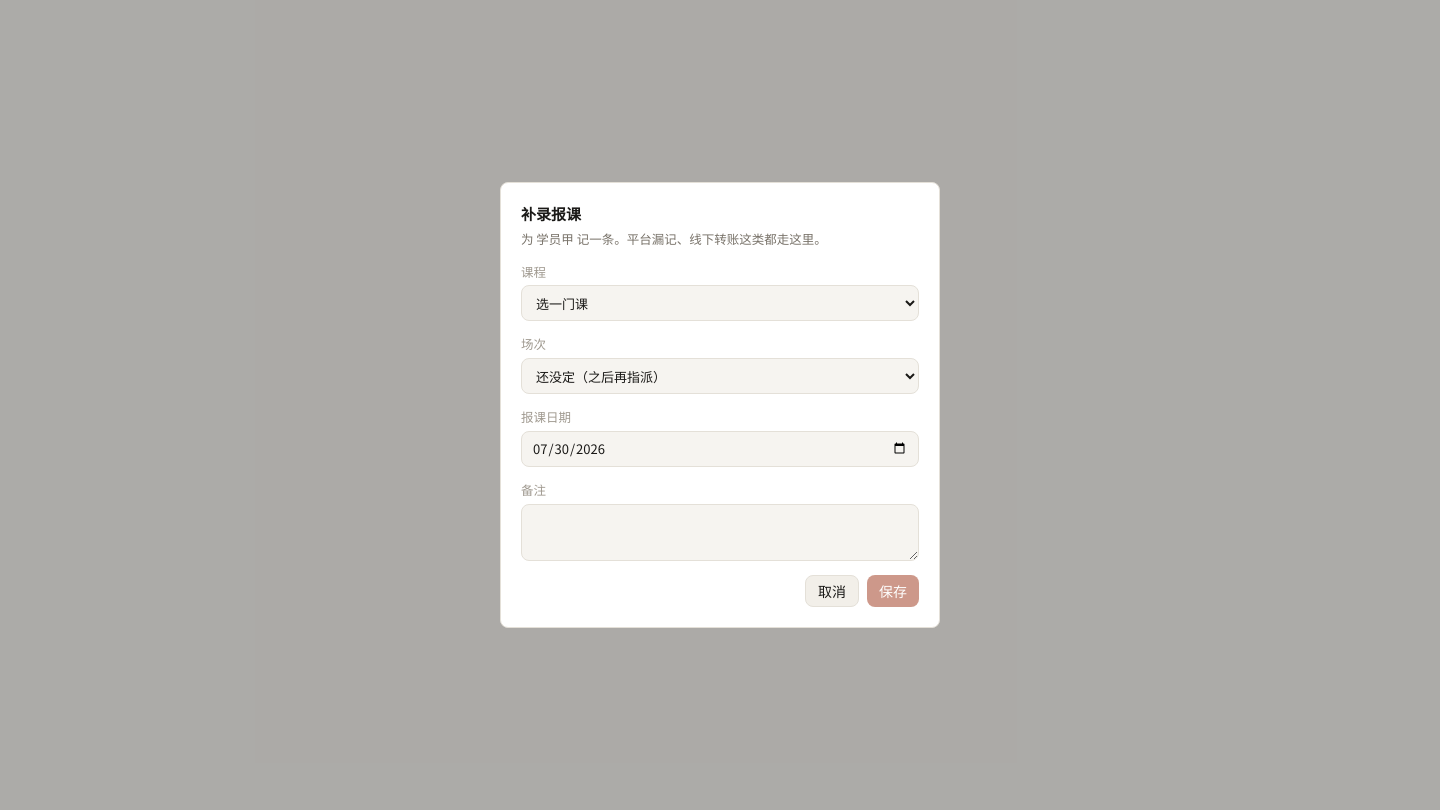
EnrollmentModal › keeps the dialog open and shows why when the write fails
The width and height of the screenshot is (1440, 810).
Select "AI 炒股分析系统" in the dropdown labelled "课程" at (720, 303), box [521, 285, 919, 321]
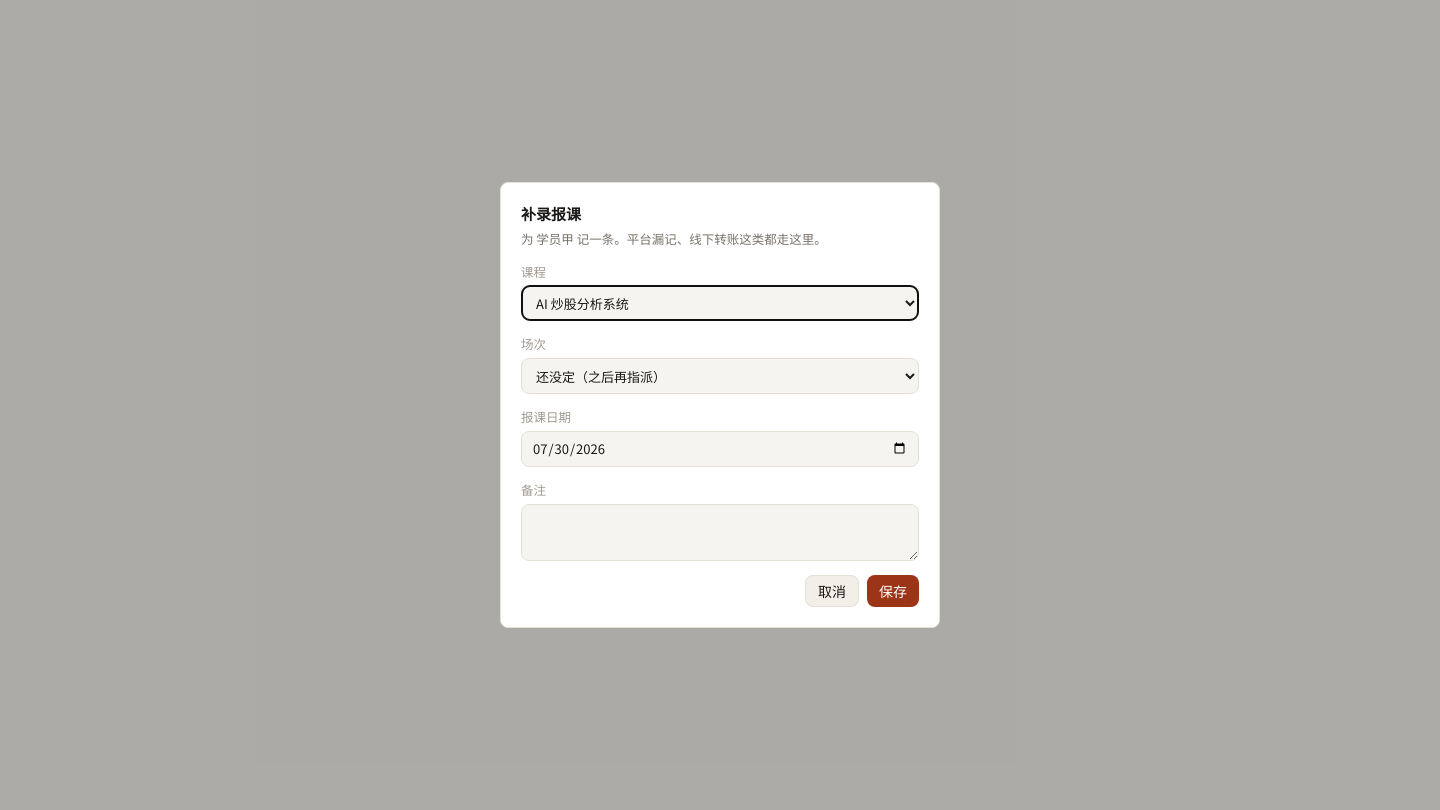
Click the button "保存".
click(893, 591)  # box [867, 575, 919, 607]
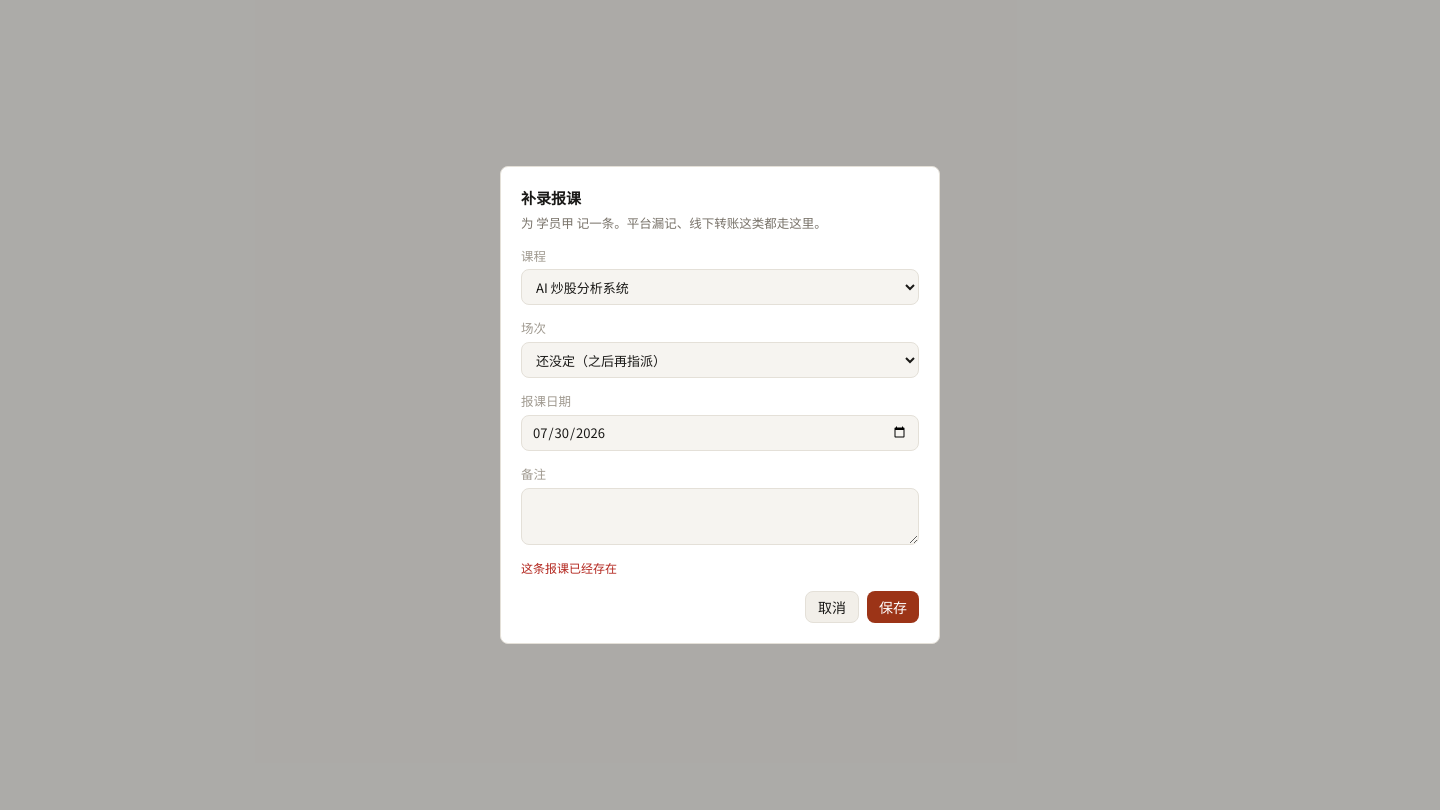
Expected: the text "这条报课已经存在" is shown, [521, 559, 617, 576]
